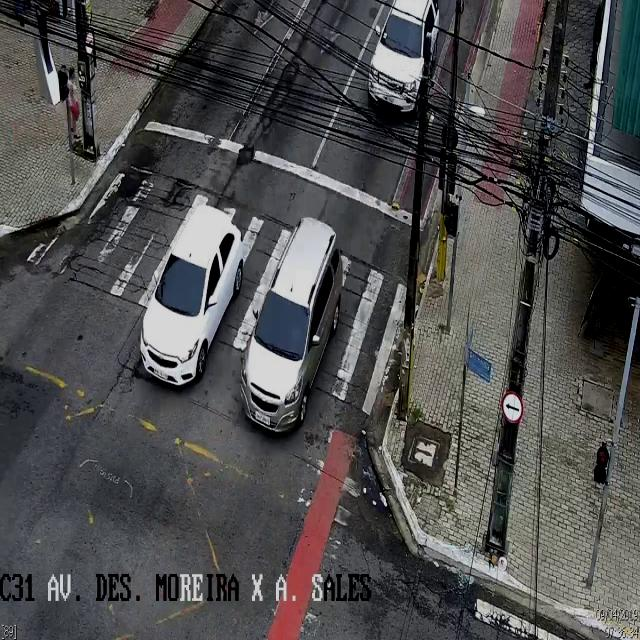Car: (241, 217, 343, 435), (139, 202, 241, 386), (370, 0, 436, 115)
